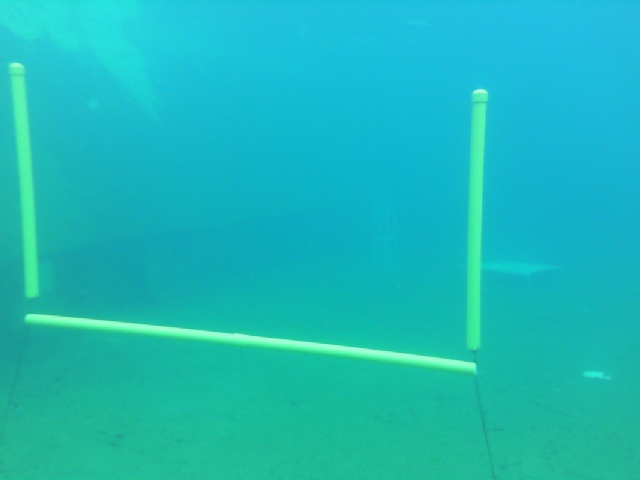channel: (16, 60, 485, 378)
